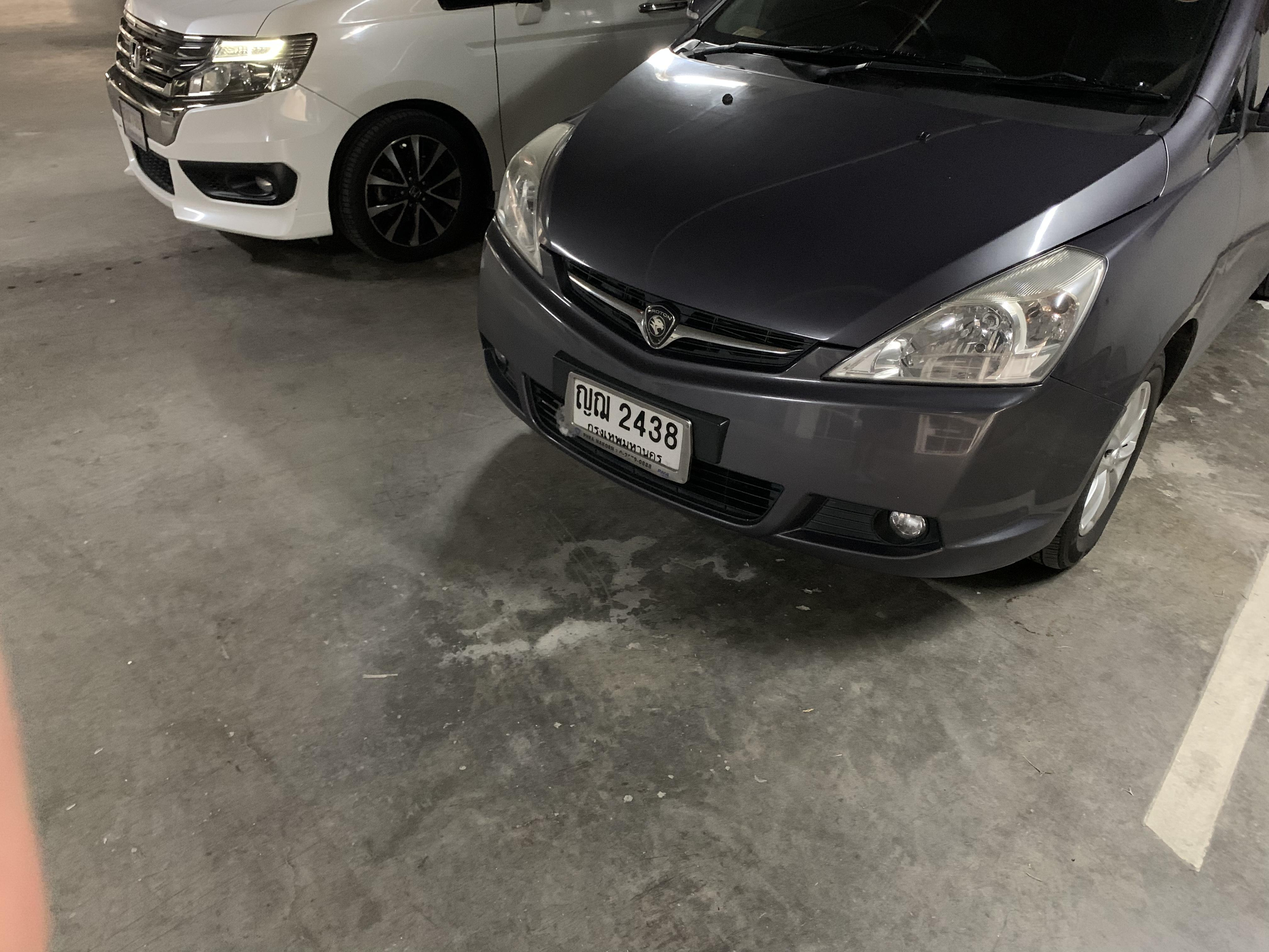license-plate: (562, 371, 693, 489)
